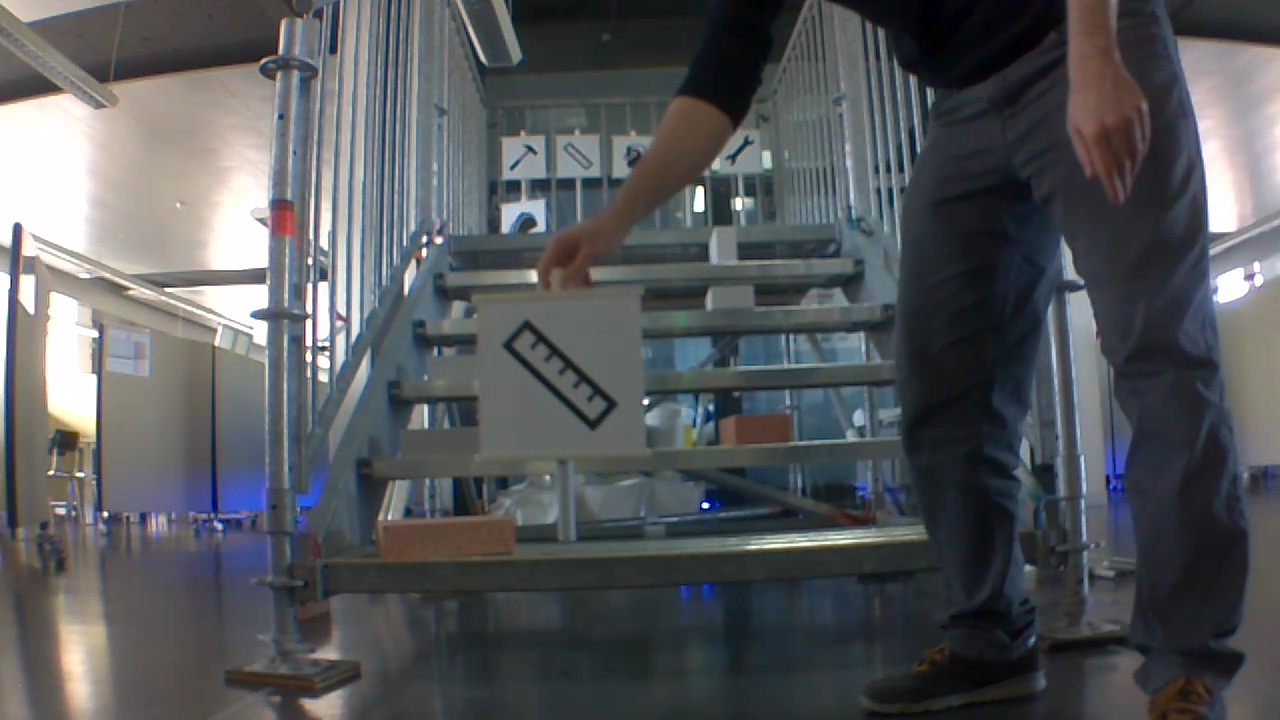brick: (384, 512, 517, 558), (715, 414, 793, 447), (404, 425, 481, 453), (708, 224, 738, 267), (708, 283, 754, 306)
bucket: (625, 143, 643, 167)
edge: (323, 538, 941, 601), (357, 435, 903, 483)
hammer: (506, 141, 538, 172)
ruler: (500, 320, 620, 433), (563, 141, 595, 170)
taco: (508, 208, 541, 235)
wrench: (725, 132, 754, 167)
